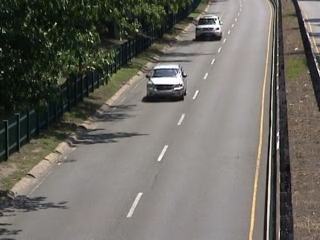car: (142, 61, 192, 103), (191, 13, 226, 43)
